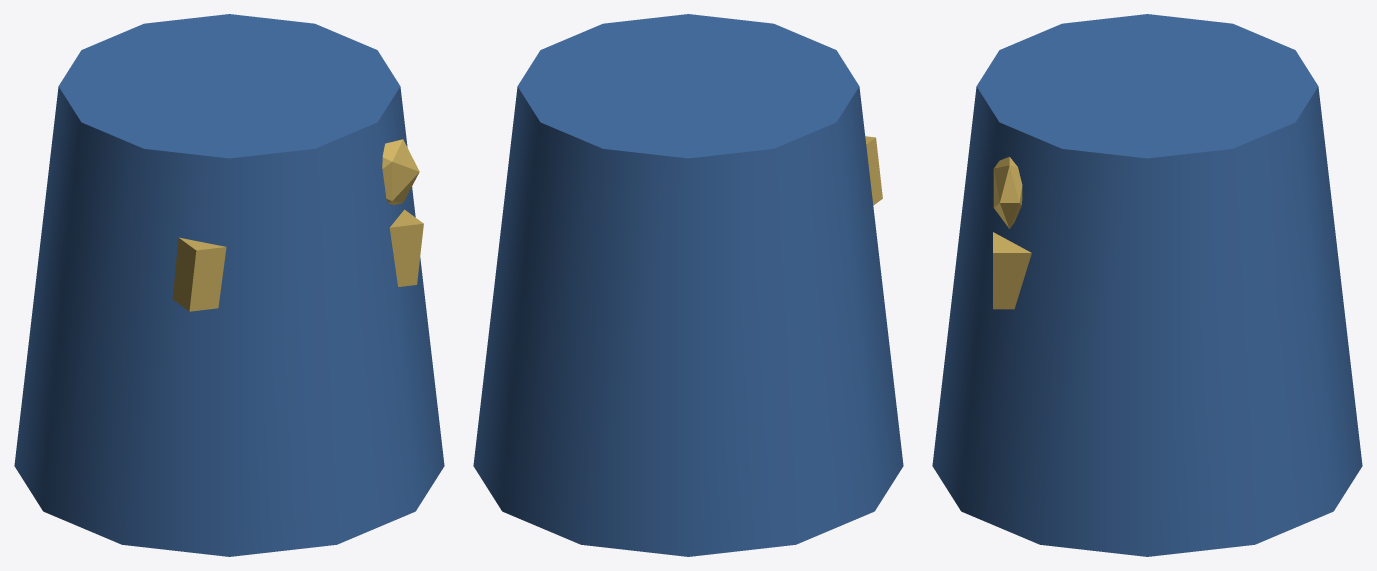
The model's file is adventurer_outfit.glb.
3 views of the same model, side by side, from view 1: azimuth 30°, elevation 25°; view 2: azimuth 150°, elevation 25°; view 3: azimuth 270°, elevation 25° (orthographic).
Parts seen in each view (by area): view 1: outfit_torso, outfit_trim, outfit_badge; view 2: outfit_torso, outfit_trim; view 3: outfit_torso, outfit_trim, outfit_badge.
Part boxes in pixels (x1,y1,x2,y2): outfit_torso: (14,14,444,556); outfit_trim: (172,209,423,311); outfit_badge: (382,139,419,204); outfit_torso: (473,14,903,556); outfit_trim: (865,136,882,205); outfit_torso: (932,14,1362,556); outfit_trim: (993,232,1031,309); outfit_badge: (993,157,1022,228).
Size of the model in its own units: 0.78 by 0.76 by 0.78.
